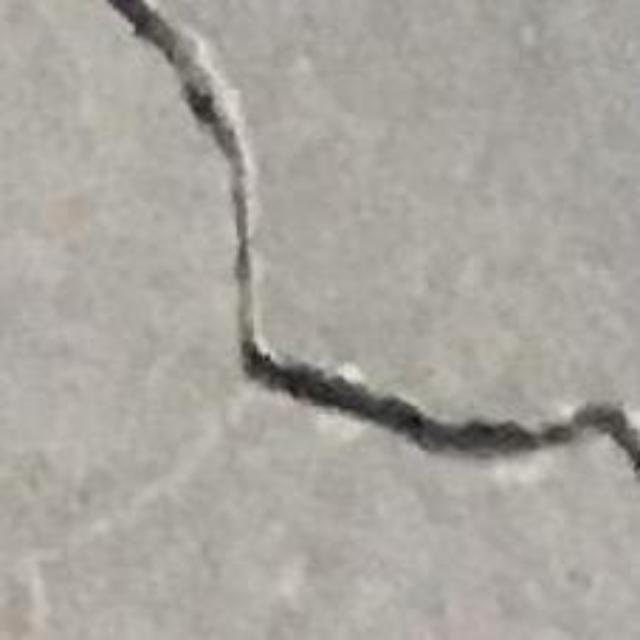crack: (108, 0, 639, 482)
